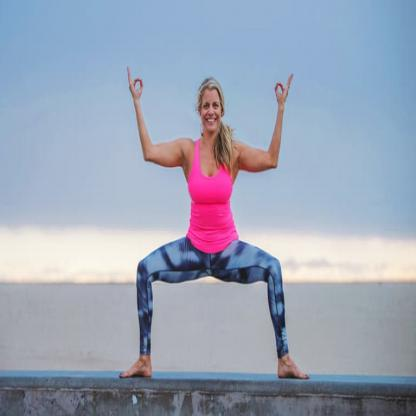godness: (117, 61, 307, 384)
